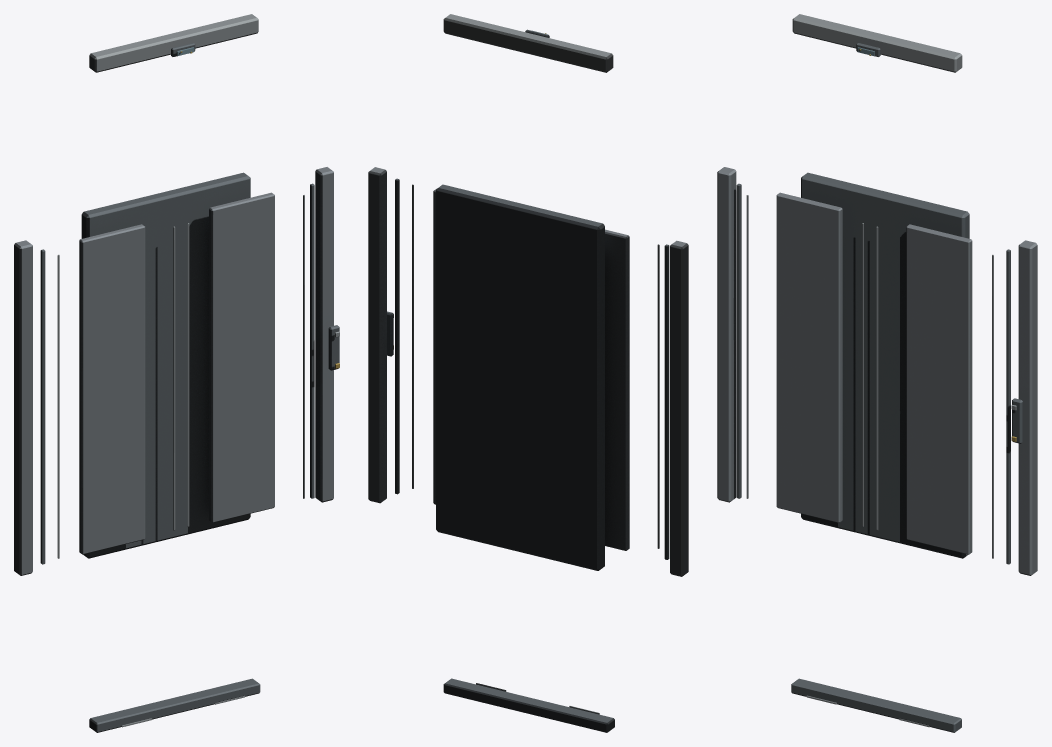
The model's file is 0-20261016-1900-ev007-r01-lobby-elevatordoors_baked.glb.
3 views of the same model, side by side, from view 1: azimuth 30°, elevation 25°; view 2: azimuth 150°, elevation 25°; view 3: azimuth 330°, elevation 25° (orthographic).
Visible parts, largest first — view 1: SW_Lobby_ElevatorDoors; view 2: SW_Lobby_ElevatorDoors; view 3: SW_Lobby_ElevatorDoors.
Boxes of the visible parts, x1,y1,x2,y2 form: SW_Lobby_ElevatorDoors: (14, 14, 339, 732); SW_Lobby_ElevatorDoors: (368, 14, 688, 732); SW_Lobby_ElevatorDoors: (717, 14, 1037, 732).
Size of the model in its own units: 1.15 by 2.35 by 0.1595.
Materials: 1 (1 with a texture image).
